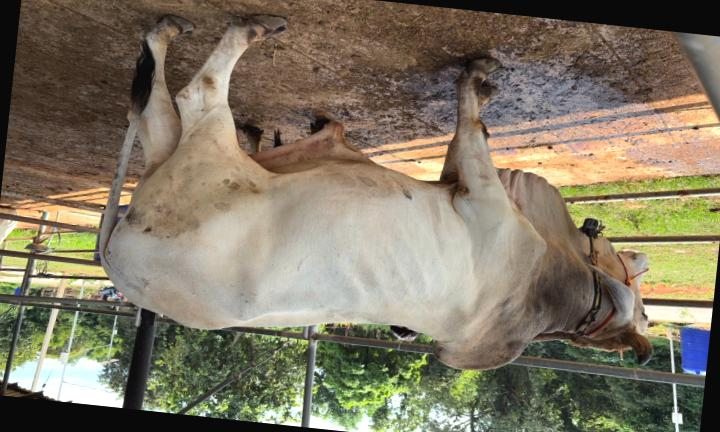Brahman: (99, 15, 652, 370)
